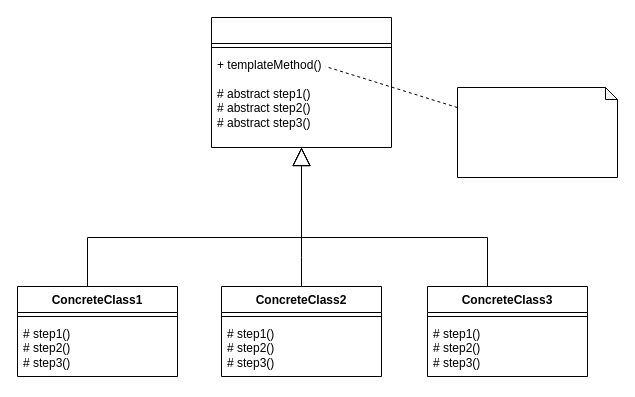
Image size: 635x397. Some labels were removed from this diagram. Here are the shapes that lost their labels. From the top down, the box of each, then its label:
(210, 16, 392, 148): AbstractClass
(456, 86, 618, 178): void templateMethod() { step1(); step2(); step3(); }
